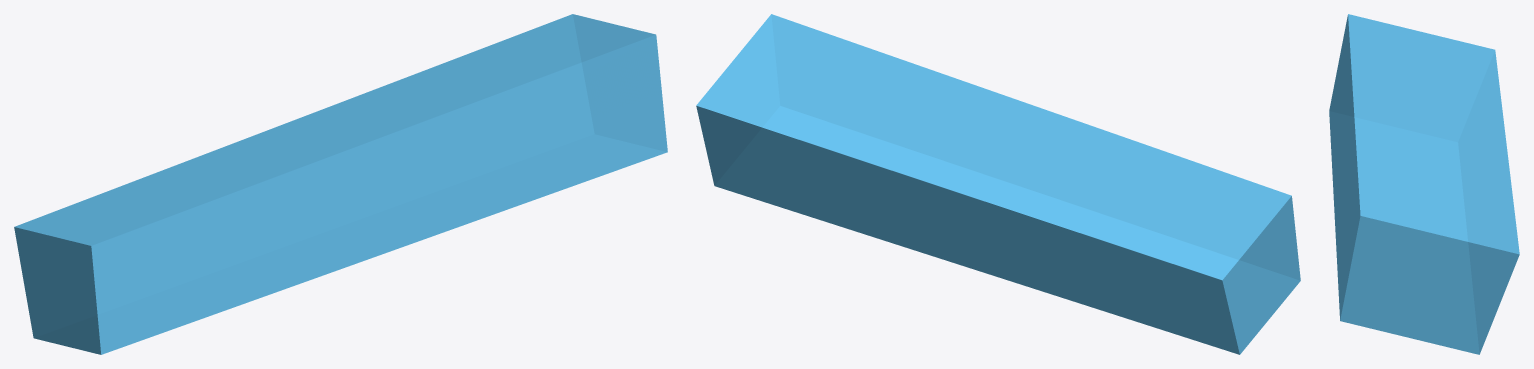
File: Event_421278790_HErechit_21.fbx
3 renders of one model, left to right at view 1: azimuth 30°, elevation 25°; view 2: azimuth 150°, elevation 25°; view 3: azimuth 270°, elevation 25°, orthographic. The views are drawn at different scales.
Visible parts, largest first — view 1: Model; view 2: Model; view 3: Model.
Part boxes in pixels (<box>): Model: <box>14,14,667,354</box>; Model: <box>696,14,1300,354</box>; Model: <box>1329,14,1519,354</box>.
Bounding box in the file's own units: 0.8354 × 0.2814 × 0.2528.
